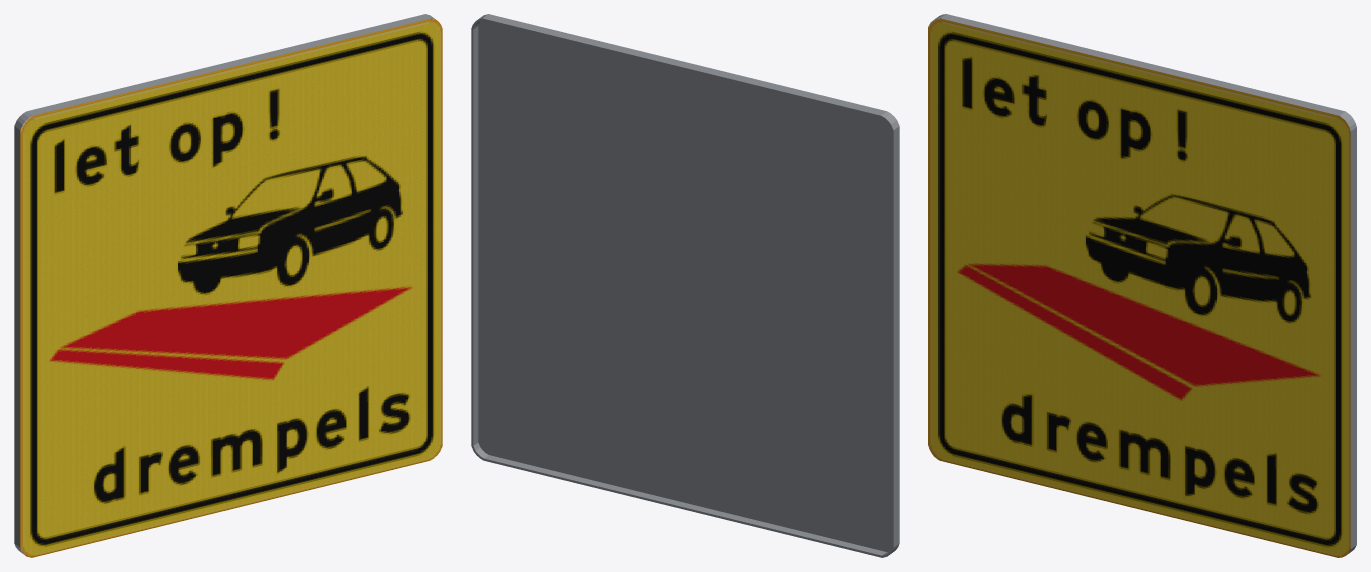
The picture shows the model from 3 angles, left to right: view 1: azimuth 30°, elevation 25°; view 2: azimuth 150°, elevation 25°; view 3: azimuth 330°, elevation 25°; orthographic projection.
Visible parts, largest first — view 1: cat_dbb7848e431dc753; view 2: cat_dbb7848e431dc753; view 3: cat_dbb7848e431dc753.
Part boxes in pixels (x1=…): cat_dbb7848e431dc753: x1=14, y1=14, x2=442, y2=557; cat_dbb7848e431dc753: x1=471, y1=14, x2=899, y2=557; cat_dbb7848e431dc753: x1=928, y1=14, x2=1356, y2=557.
Bounding box in the file's own units: 0.6 × 0.015 × 0.6.
Materials: 2 (1 with a texture image).
